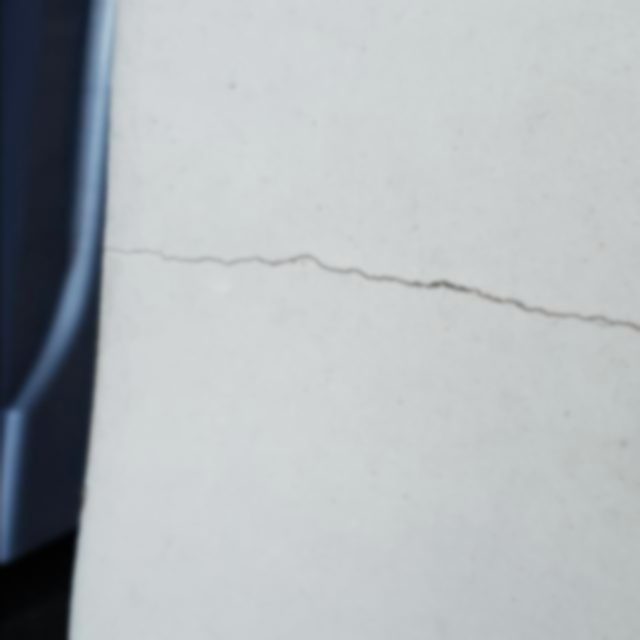SurfaceCrack: (106, 214, 640, 371)
